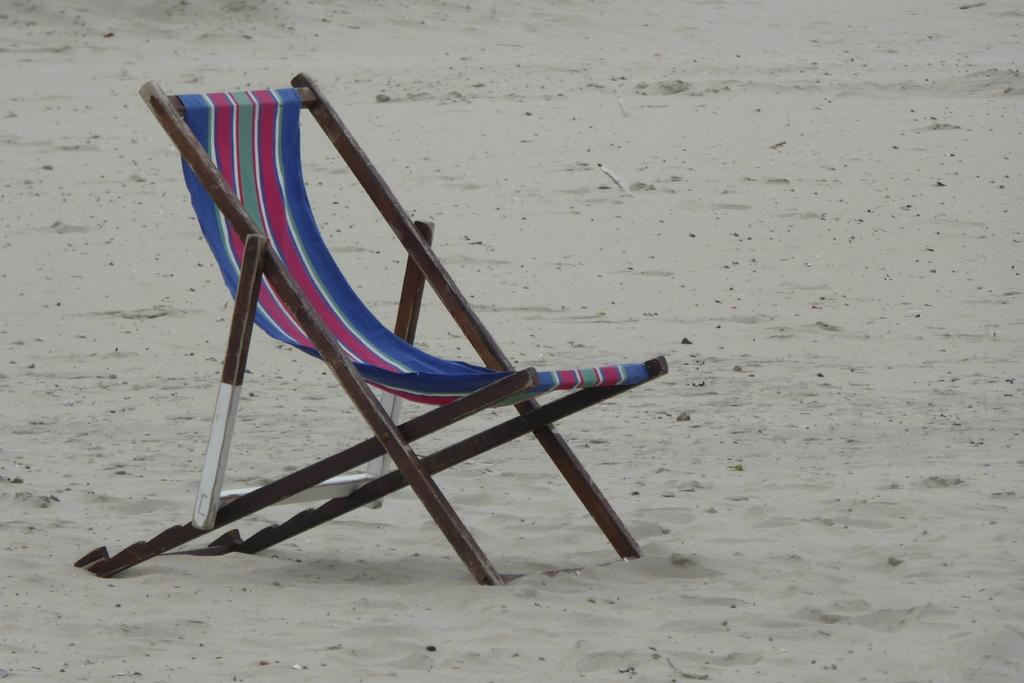Chair: (72, 68, 667, 588)
